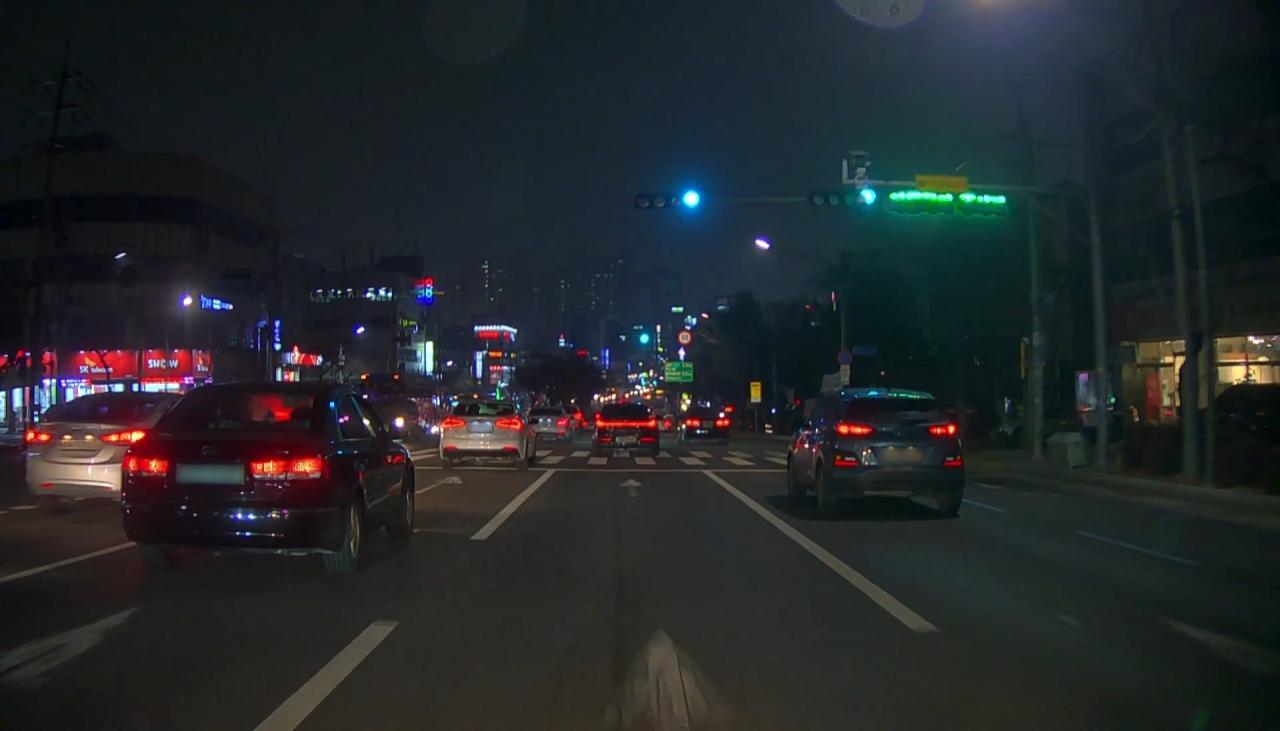Green Light: (680, 189, 703, 209), (857, 188, 876, 206)
